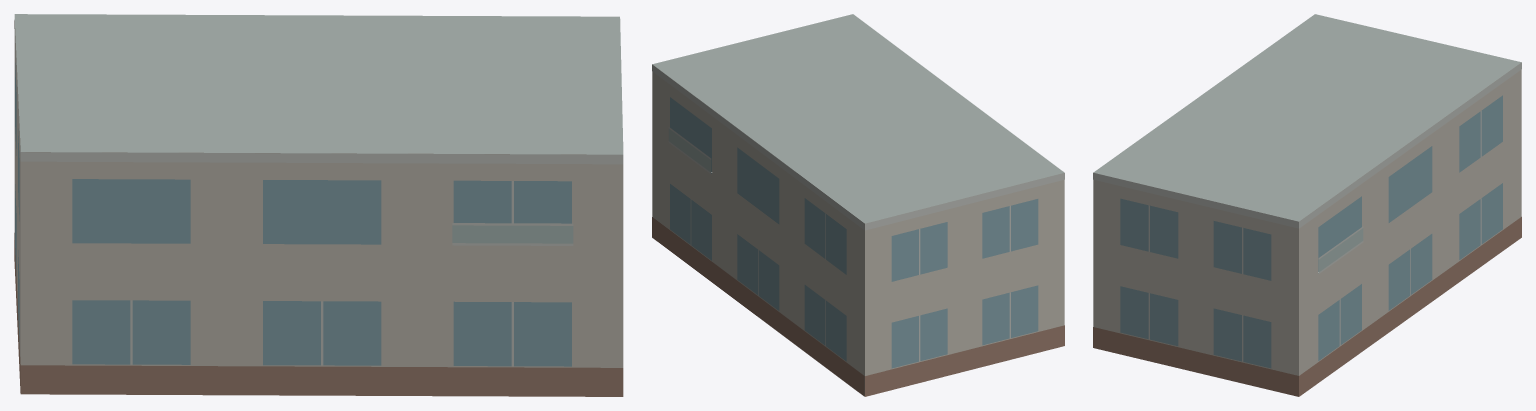
Rendered from survey-upis-32654946.glb.
3 views of the same model, side by side, from view 1: azimuth 30°, elevation 25°; view 2: azimuth 150°, elevation 25°; view 3: azimuth 270°, elevation 25° (orthographic). The views are drawn at different scales.
Visible parts, largest first — view 1: survey-upis-32654946.tmp; view 2: survey-upis-32654946.tmp; view 3: survey-upis-32654946.tmp.
Boxes of the visible parts, bbox=[...] form: survey-upis-32654946.tmp: bbox=[14, 14, 623, 396]; survey-upis-32654946.tmp: bbox=[652, 14, 1064, 396]; survey-upis-32654946.tmp: bbox=[1093, 14, 1521, 396].
Bounding box in the file's own units: 15.51 × 6.1 × 13.53.
